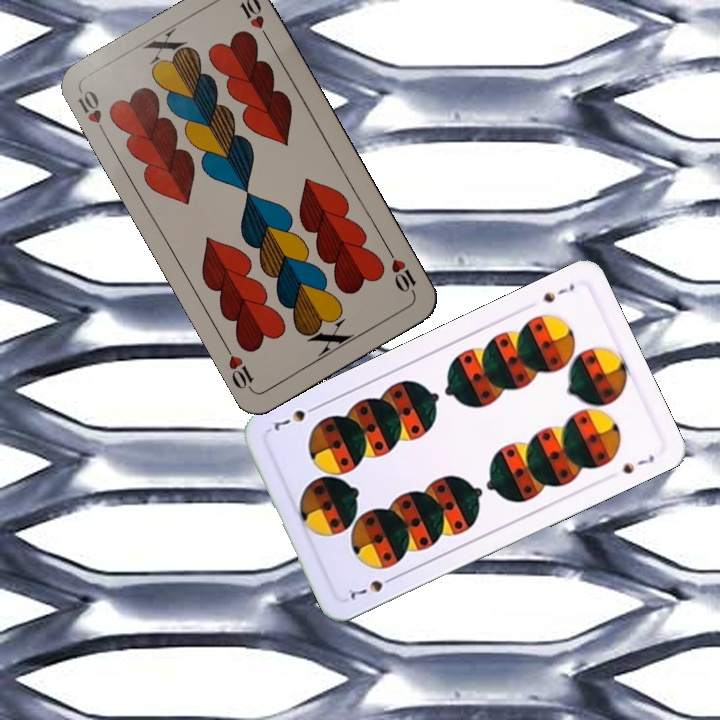H10: (73, 86, 110, 141), (383, 245, 419, 299)
S7: (344, 572, 399, 601), (539, 279, 577, 305)
